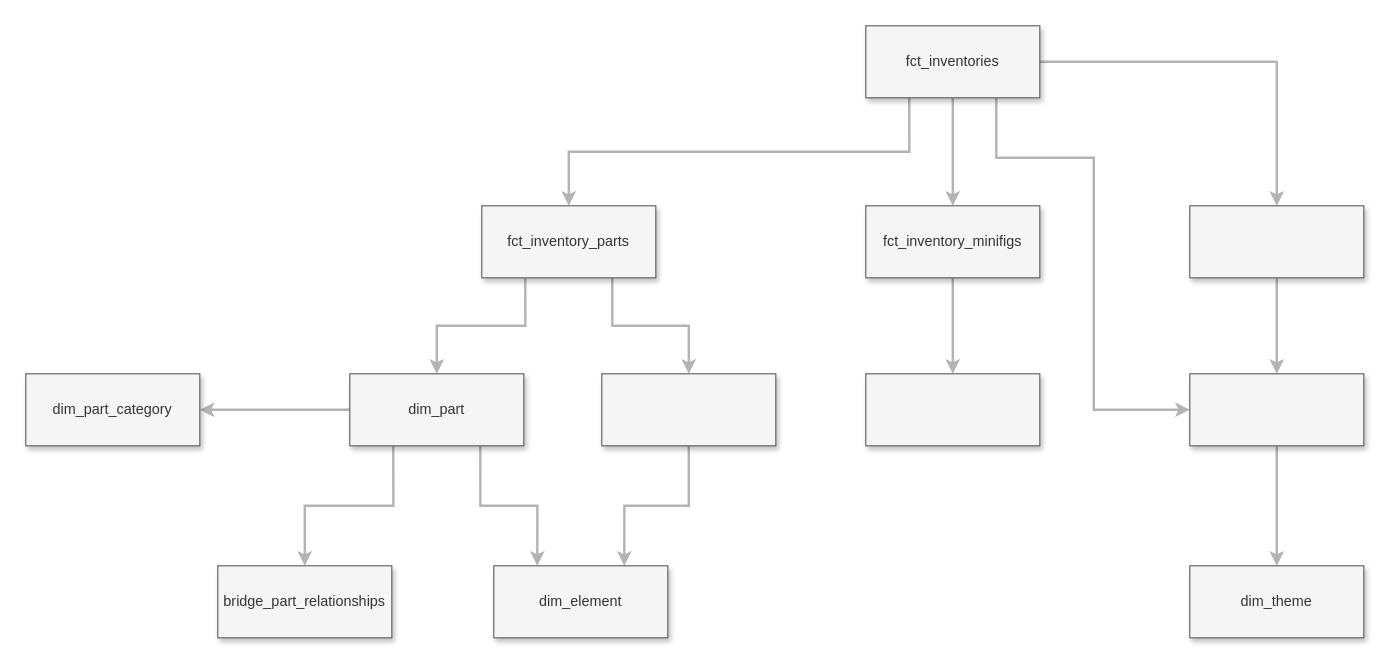
The diagram is 1392 pixels wide and 667 high, and some of its shapes have lost their labels. The shapes that lost their labels are listed below. From the top down, each one's centre as x and y in pixels, then its label:
At (x=1277, y=243): "fct_inventory_sets".
At (x=689, y=411): "dim_color".
At (x=953, y=411): "dim_minifig".
At (x=1277, y=411): "dim_set".
